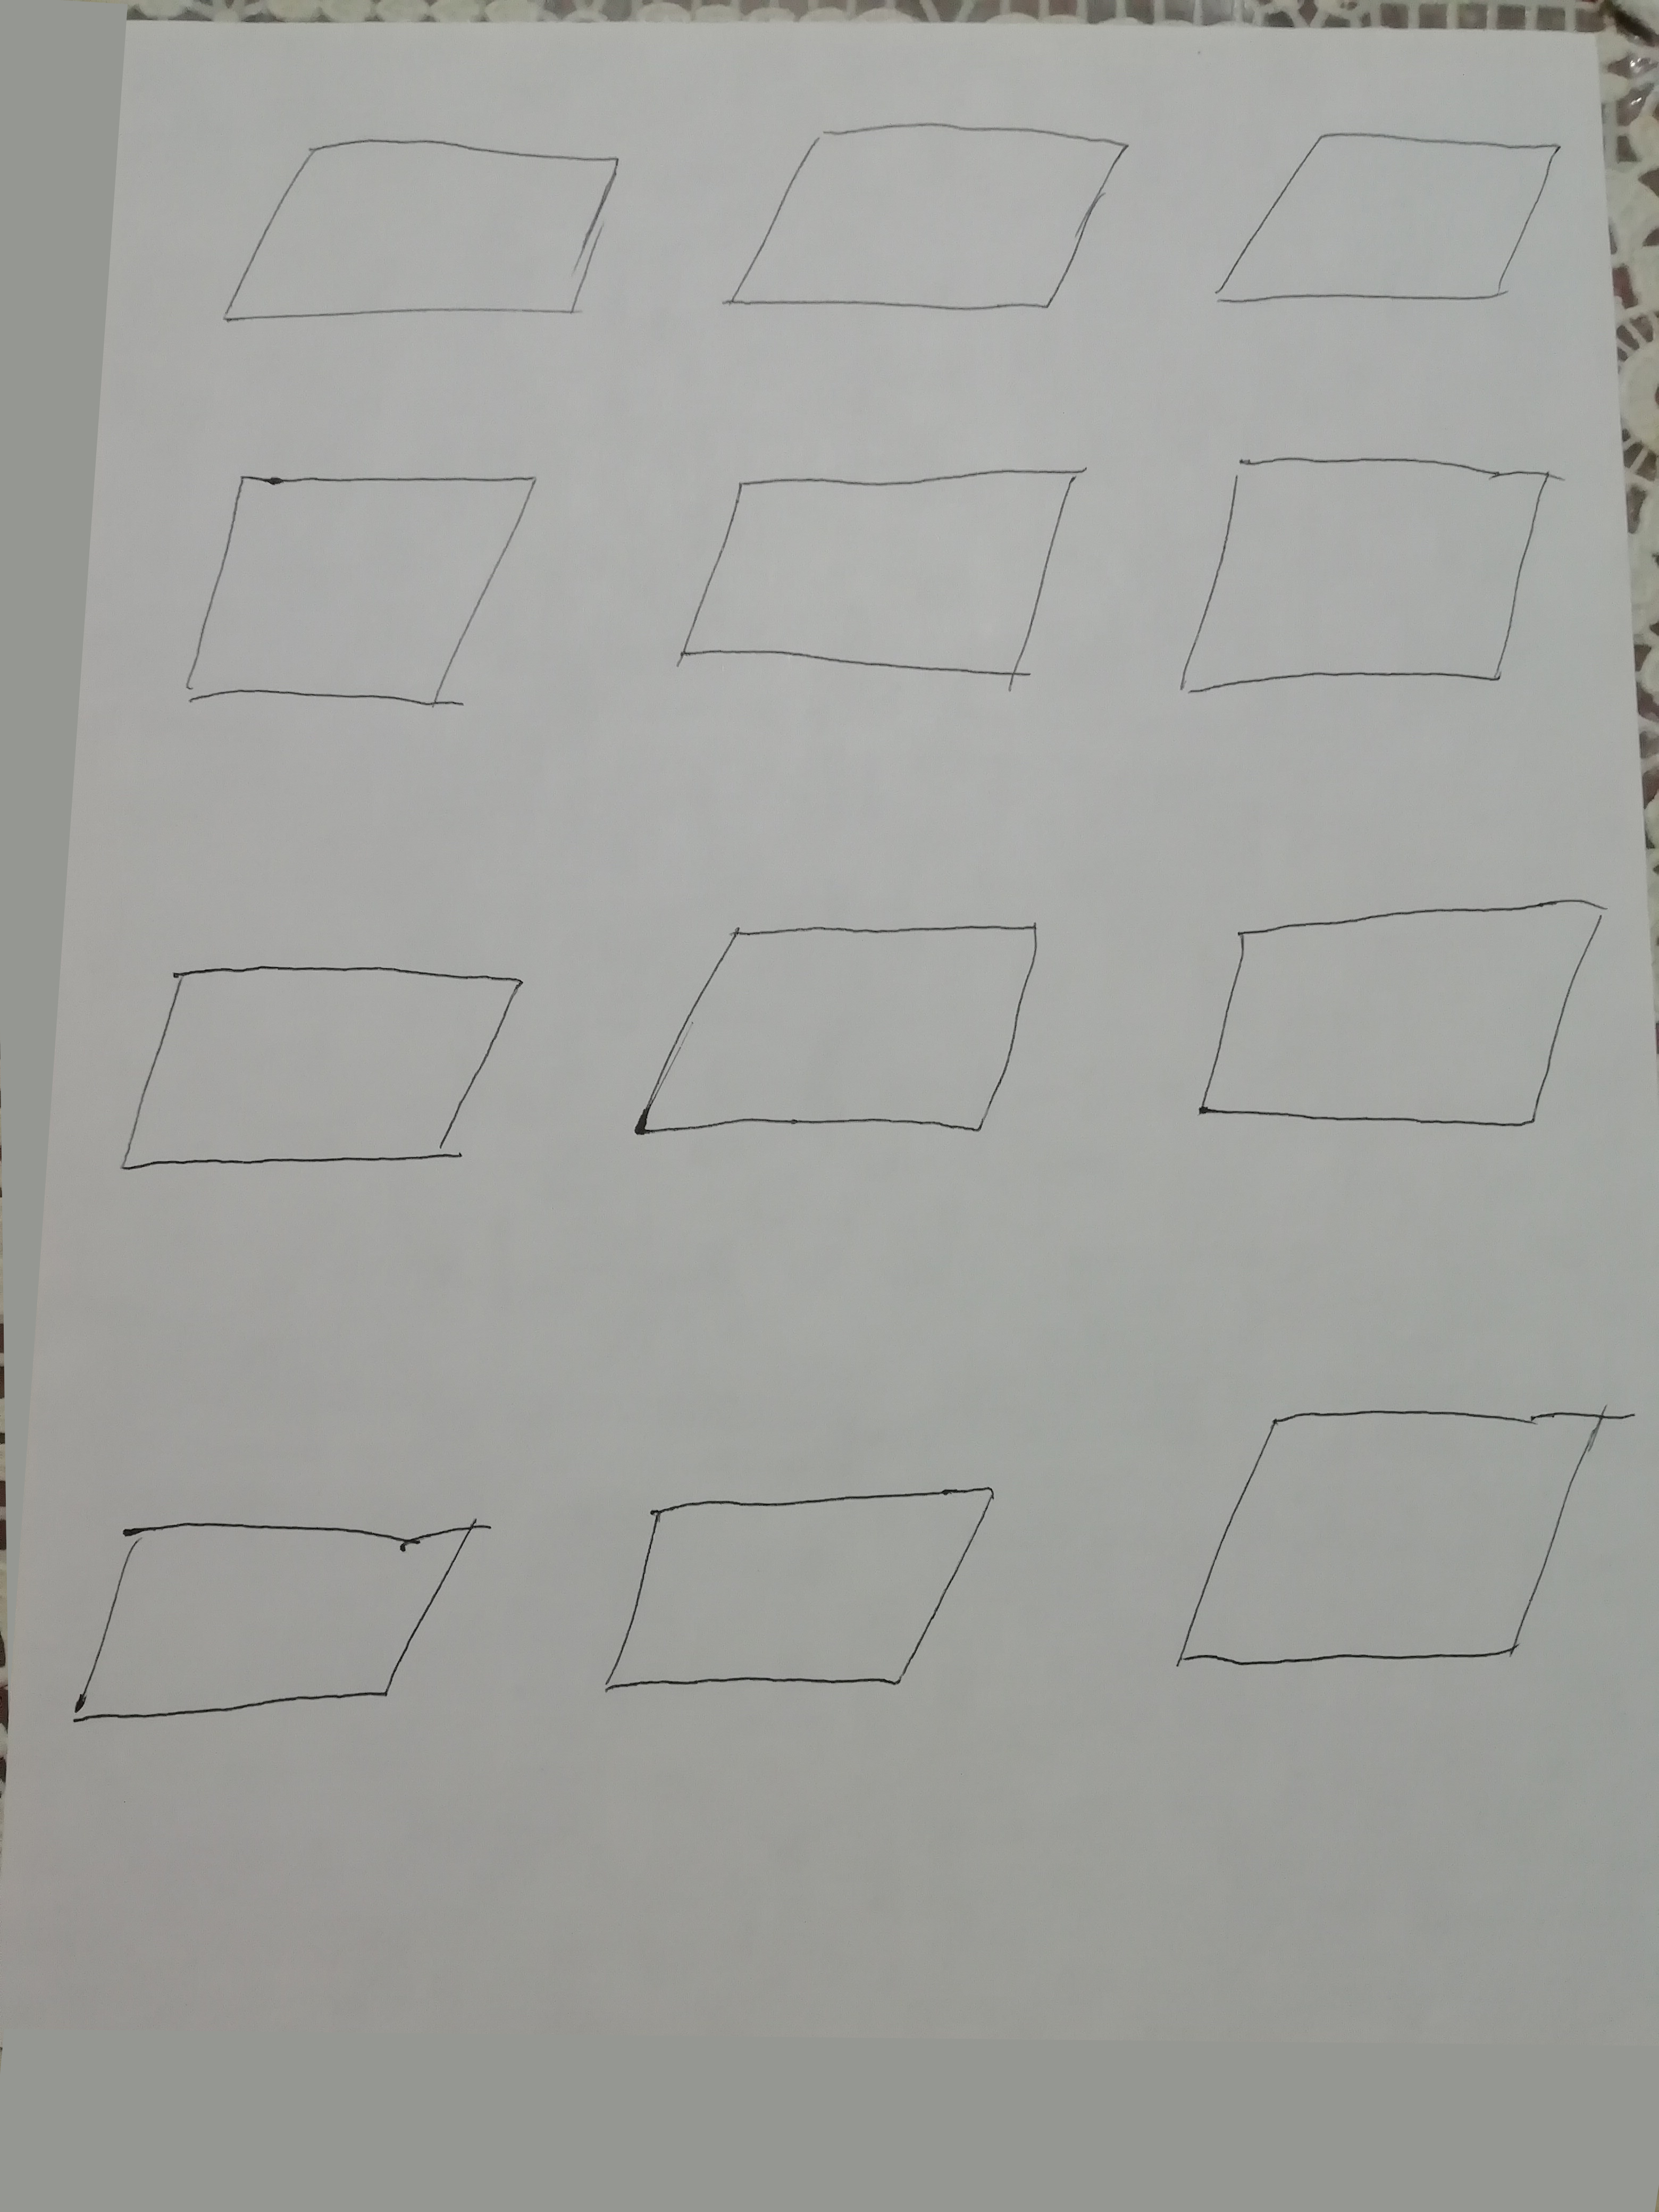scan: (1140, 1369, 1647, 1712), (84, 928, 554, 1247), (619, 883, 1091, 1188), (132, 421, 554, 761), (47, 1470, 512, 1773), (636, 449, 1112, 737), (697, 78, 1154, 376), (1164, 425, 1593, 737), (1175, 873, 1633, 1151), (580, 1468, 1033, 1737), (186, 96, 640, 362), (1192, 96, 1586, 362)
